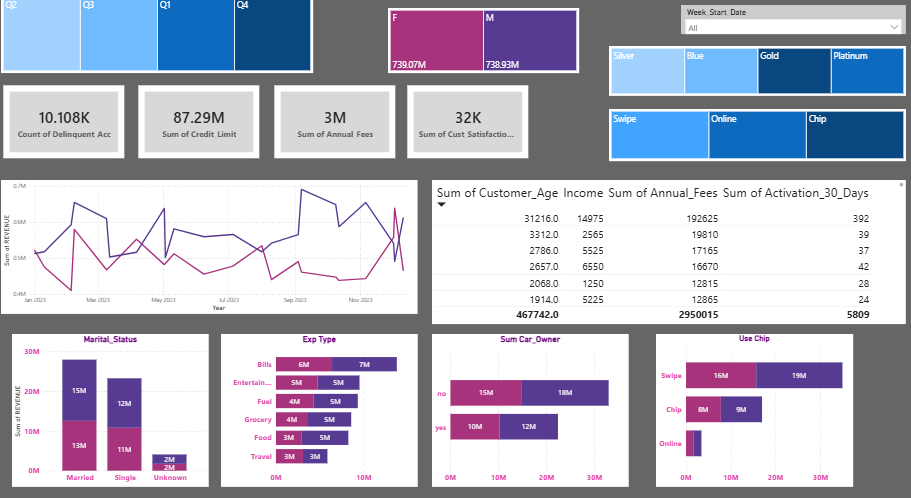

This screenshot's page, from the dashboard's own definition file:
{"tool":"powerbi","page":{"name":"cc transcation ","canvas":[1800,1000],"ordinal":3},"visuals":[{"type":"textbox","box":[9.8,0,588.6,88.6],"z":0},{"type":"lineStackedColumnComboChart","title":"Sum of REVENUE and total trans count","fields":{"Category":["credit_card.Qtr"],"Y":["Sum(credit_card.REVENUE)"],"Y2":["Sum(credit_card.Total_Trans_Vol)"]},"box":[584.6,271.7,742.1,411.4],"z":1000},{"type":"barChart","fields":{"Y":["Sum(credit_card.REVENUE)"],"Category":["credit_card.Exp Type"]},"box":[0,702.8,348.4,297.2],"z":2000},{"type":"columnChart","fields":{"Category":["customer.Education_Level"],"Y":["Sum(credit_card.REVENUE)"]},"box":[360.2,696.9,348,297.2],"z":3000},{"type":"barChart","fields":{"Y":["Sum(credit_card.REVENUE)"],"Category":["customer.Customer_Job"]},"box":[736.2,696.9,348,297.2],"z":4000},{"type":"barChart","fields":{"Y":["Sum(credit_card.REVENUE)"],"Category":["credit_card.Card_Category","customer.Customer_Job"]},"box":[1098.4,710.6,348,283.5],"z":5000},{"type":"barChart","fields":{"Y":["Sum(credit_card.REVENUE)"],"Category":["credit_card.Use Chip"]},"box":[1395.7,425.2,378,285.4],"z":6000},{"type":"tableEx","fields":{"Values":["credit_card.Card_Category","Sum(credit_card.REVENUE)","Sum(credit_card.Total_Trans_Amt)","Sum(credit_card.Interest_Earned)"]},"box":[9.8,299.2,561,269.7],"z":7000},{"type":"cardVisual","fields":{"Data":["Sum(credit_card.REVENUE)"]},"box":[0,114.2,221.5,140],"z":8000},{"type":"cardVisual","fields":{"Data":["Sum(credit_card.Total_Trans_Amt)"]},"box":[486.2,114.2,221.5,140],"z":9000},{"type":"cardVisual","fields":{"Data":["Sum(credit_card.Interest_Earned)"]},"box":[236.2,114.2,221.5,140],"z":10000},{"type":"cardVisual","fields":{"Data":["Sum(credit_card.Total_Trans_Vol)"]},"box":[736.2,114.2,221,139.8],"z":11000},{"type":"slicer","fields":{"Values":["credit_card.Week_Start_Date"]},"box":[1344.5,0,454.7,70.9],"z":12000},{"type":"treemap","fields":{"Group":["credit_card.Qtr"],"Values":["Avg(credit_card.Client_Num)"]},"box":[629.9,0,696.9,104.3],"z":13000},{"type":"treemap","fields":{"Group":["customer.Gender"],"Values":["Avg(credit_card.Client_Num)"]},"box":[1358.3,114.2,401.6,63],"z":14000},{"type":"treemap","fields":{"Group":["credit_card.Card_Category"],"Values":["Avg(credit_card.Client_Num)"]},"box":[1344.5,206.7,429.1,92.5],"z":15000},{"type":"treemap","fields":{"Group":["customer.INCOMEGROUP"],"Values":["Avg(credit_card.Client_Num)"]},"box":[1344.5,322.8,429.1,72.8],"z":16000}]}

Visuals, with their boxes in screenshot pixels (x1, y1, x2, y2), scaled from the page's 1800x1000 canvas onto the 911x498 screenshot:
textbox: box(5, 0, 303, 44)
"Sum of REVENUE and total trans count" lineStackedColumnComboChart: box(296, 135, 671, 340)
barChart - Sum(credit_card.REVENUE) x credit_card.Exp Type: box(0, 350, 176, 497)
columnChart - customer.Education_Level x Sum(credit_card.REVENUE): box(182, 347, 358, 495)
barChart - Sum(credit_card.REVENUE) x customer.Customer_Job: box(373, 347, 549, 495)
barChart - Sum(credit_card.REVENUE) x credit_card.Card_Category: box(556, 354, 732, 495)
barChart - Sum(credit_card.REVENUE) x credit_card.Use Chip: box(706, 212, 898, 354)
tableEx - credit_card.Card_Category x Sum(credit_card.REVENUE): box(5, 149, 289, 283)
cardVisual - Sum(credit_card.REVENUE): box(0, 57, 112, 127)
cardVisual - Sum(credit_card.Total_Trans_Amt): box(246, 57, 358, 127)
cardVisual - Sum(credit_card.Interest_Earned): box(120, 57, 232, 127)
cardVisual - Sum(credit_card.Total_Trans_Vol): box(373, 57, 484, 126)
slicer - credit_card.Week_Start_Date: box(680, 0, 910, 35)
treemap - credit_card.Qtr x Avg(credit_card.Client_Num): box(319, 0, 672, 52)
treemap - customer.Gender x Avg(credit_card.Client_Num): box(687, 57, 891, 88)
treemap - credit_card.Card_Category x Avg(credit_card.Client_Num): box(680, 103, 898, 149)
treemap - customer.INCOMEGROUP x Avg(credit_card.Client_Num): box(680, 161, 898, 197)
